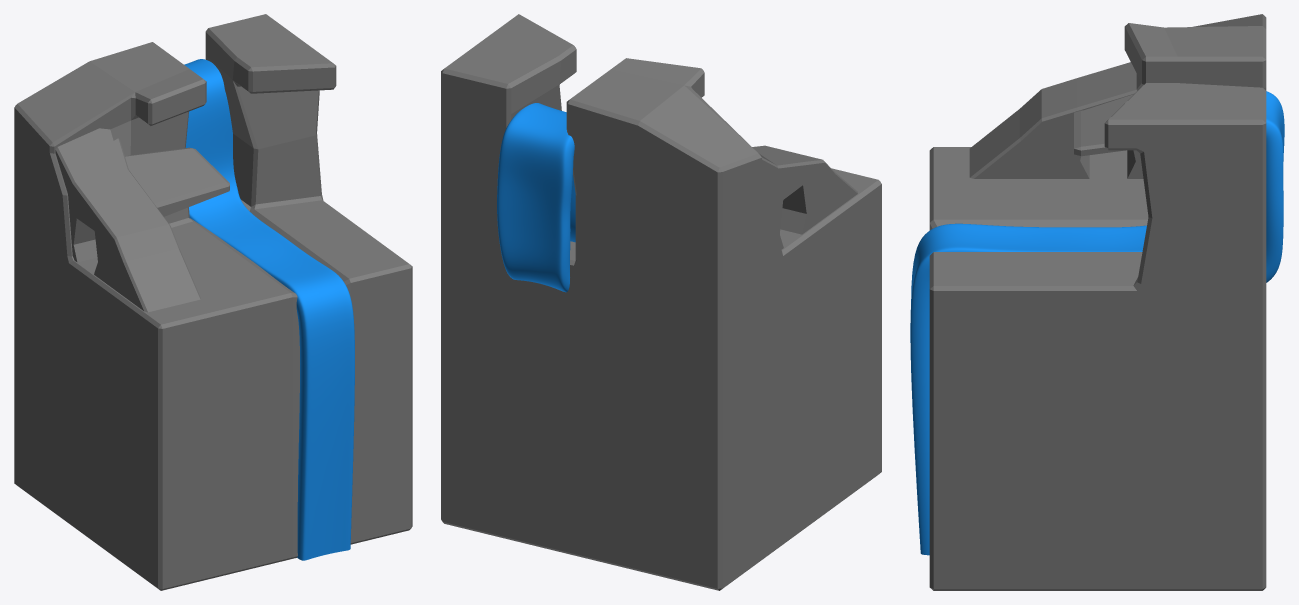
Rendered from FinalDiorama2.fbx.
3 renders of one model, left to right at view 1: azimuth 30°, elevation 25°; view 2: azimuth 150°, elevation 25°; view 3: azimuth 270°, elevation 25°, orthographic. The views are drawn at different scales.
Parts seen in each view (by area): view 1: DioramaFinal.001, Cascada, SlopeFinal, Platform; view 2: DioramaFinal.001, Cascada, SlopeFinal; view 3: DioramaFinal.001, Cascada, SlopeFinal, Platform.
Boxes of the visible parts, x1,y1,x2,y2 form: DioramaFinal.001: (14,14,412,590); Cascada: (184,59,354,560); SlopeFinal: (55,128,200,312); Platform: (125,147,229,216); DioramaFinal.001: (441,14,881,590); Cascada: (497,103,575,292); SlopeFinal: (752,145,857,249); DioramaFinal.001: (929,14,1266,590); Cascada: (910,91,1284,555); SlopeFinal: (969,62,1143,178); Platform: (1074,94,1133,156).
Bounding box in the file's own units: 322 × 498 × 358.
